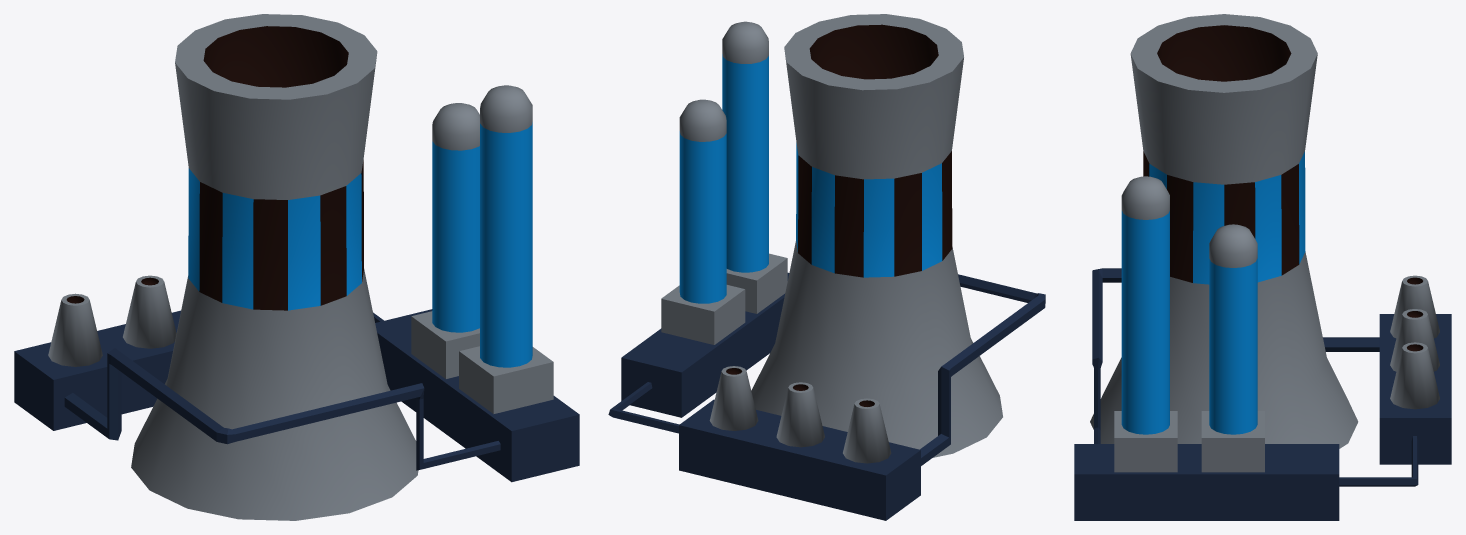
File: 2025-01-29-Boswell-RescaledNuclearPlant-v005.fbx
3 renders of one model, left to right at view 1: azimuth 30°, elevation 25°; view 2: azimuth 150°, elevation 25°; view 3: azimuth 270°, elevation 25°, orthographic. The views are drawn at different scales.
Parts seen in each view (by area): view 1: Cylinder, Cube.001, Cube.002, Cube.004, Elbow Joint.001, Cube.003, Cylinder.001, Cylinder.002; view 2: Cylinder, Cube.003, Cube.001, Cube.002, Cube.004, Elbow Joint.001, Cylinder.002, Cylinder.001, Cylinder.003, Elbow Joint; view 3: Cylinder, Cube.004, Cube.001, Cube.002, Cube.003, Elbow Joint.001, Cylinder.003, Cylinder.002, Cylinder.001, Elbow Joint.
Boxes of the visible parts, <box> form: Cylinder: <box>131,14,418,520</box>; Cube.001: <box>459,85,553,413</box>; Cube.002: <box>411,103,479,378</box>; Cube.004: <box>375,309,579,482</box>; Elbow Joint.001: <box>64,348,500,470</box>; Cube.003: <box>14,310,180,430</box>; Cylinder.001: <box>48,293,102,366</box>; Cylinder.002: <box>123,275,176,348</box>; Cylinder: <box>751,14,1002,457</box>; Cube.003: <box>679,399,920,520</box>; Cube.001: <box>722,21,787,313</box>; Cube.002: <box>661,99,745,344</box>; Cube.004: <box>621,272,789,417</box>; Elbow Joint.001: <box>920,274,1045,465</box>; Cylinder.002: <box>776,382,824,447</box>; Cylinder.001: <box>843,398,891,463</box>; Cylinder.003: <box>709,366,758,430</box>; Elbow Joint: <box>608,382,679,433</box>; Cylinder: <box>1090,14,1358,448</box>; Cube.004: <box>1074,444,1339,520</box>; Cube.001: <box>1114,176,1177,472</box>; Cube.002: <box>1201,224,1264,472</box>; Cube.003: <box>1379,314,1451,464</box>; Elbow Joint.001: <box>1092,268,1379,443</box>; Cylinder.003: <box>1390,342,1439,409</box>; Cylinder.002: <box>1390,309,1439,371</box>; Cylinder.001: <box>1390,275,1439,338</box>; Elbow Joint: <box>1339,436,1418,486</box>.
Size of the model in its own units: 535 by 574 by 533.
